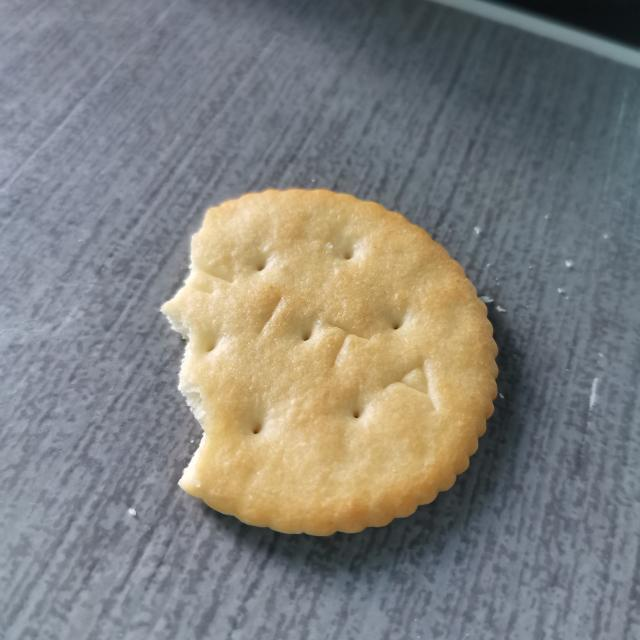Broken: (160, 186, 500, 537)
